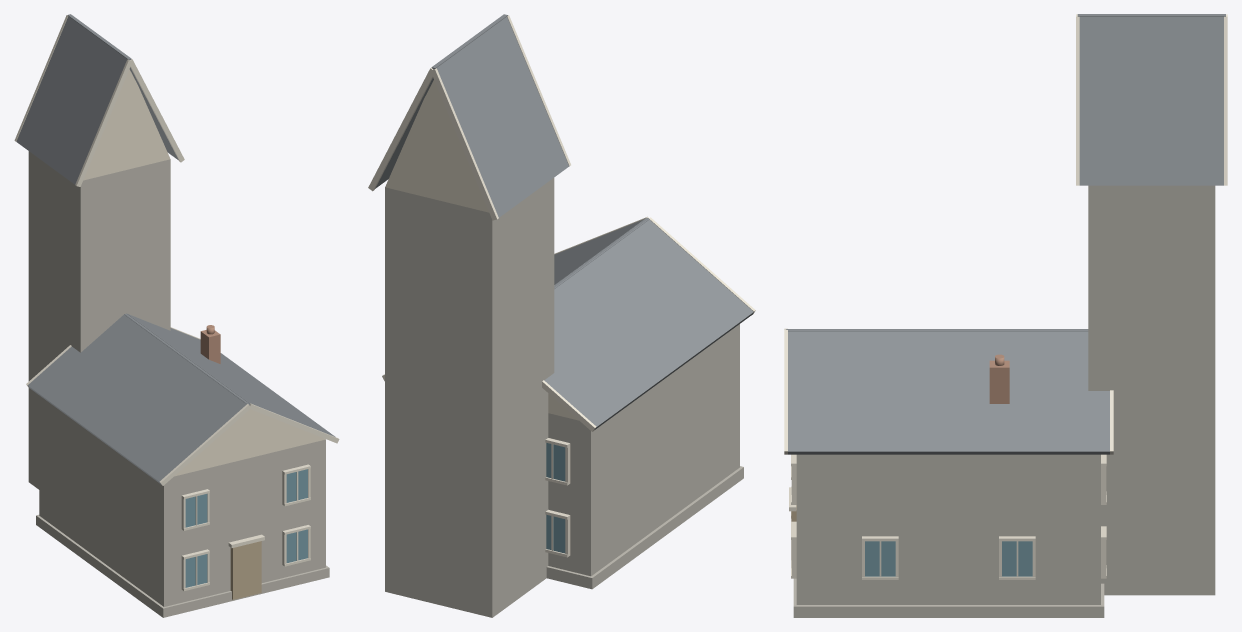
Rendered from tyne-church_lod0.glb.
3 views of the same model, side by side, from view 1: azimuth 30°, elevation 25°; view 2: azimuth 150°, elevation 25°; view 3: azimuth 270°, elevation 25° (orthographic). The views are drawn at different scales.
Visible parts, largest first — view 1: RF_Body, RF_ChurchTower, RF_Roof.001, RF_Roof.003, RF_Gable.002, RF_Gable, RF_Roof.002, RF_Foundation, RF_Door.001, RF_Vergeband.005, RF_Vergeband.001, RF_Vergeband.007 (+7 smaller); view 2: RF_ChurchTower, RF_Body, RF_Roof.001, RF_Roof.003, RF_Gable.003, RF_Foundation, RF_Roof.002, RF_Vergeband.006, RF_Vergeband, RF_Window.005, RF_Window.006, RF_Roof; view 3: RF_ChurchTower, RF_Body, RF_Roof.002, RF_Roof, RF_Foundation, RF_Window.009, RF_Window, RF_Ridge.001, RF_Chimney, RF_Vergeband.007, RF_Vergeband.
Part boxes in pixels (<box>): RF_Body: <box>39,395,325,606</box>; RF_ChurchTower: <box>28,151,170,489</box>; RF_Roof.001: <box>27,314,247,484</box>; RF_Roof.003: <box>16,16,127,184</box>; RF_Gable.002: <box>83,69,170,180</box>; RF_Gable: <box>174,409,325,476</box>; RF_Roof.002: <box>127,314,335,436</box>; RF_Foundation: <box>36,514,329,617</box>; RF_Door.001: <box>230,541,261,599</box>; RF_Vergeband.005: <box>75,59,131,186</box>; RF_Vergeband.001: <box>159,404,249,485</box>; RF_Vergeband.007: <box>129,59,184,162</box>; RF_ChurchTower: <box>385,178,554,617</box>; RF_Body: <box>548,324,739,576</box>; RF_Roof.001: <box>544,219,753,429</box>; RF_Roof.003: <box>436,17,568,217</box>; RF_Gable.003: <box>385,80,488,212</box>; RF_Foundation: <box>546,466,743,589</box>; RF_Roof.002: <box>554,218,646,285</box>; RF_Vergeband.006: <box>430,68,498,220</box>; RF_Vergeband: <box>368,67,433,191</box>; RF_Window.005: <box>546,514,565,553</box>; RF_Window.006: <box>546,443,565,481</box>; RF_Roof: <box>375,77,433,188</box>; RF_ChurchTower: <box>1088,185,1215,595</box>; RF_Body: <box>796,454,1100,604</box>; RF_Roof.002: <box>788,330,1109,454</box>; RF_Roof: <box>1079,16,1223,185</box>; RF_Foundation: <box>793,578,1104,617</box>; RF_Window.009: <box>865,541,895,576</box>; RF_Window: <box>1002,541,1032,576</box>; RF_Ridge.001: <box>786,329,1088,331</box>; RF_Chimney: <box>989,360,1009,403</box>; RF_Vergeband.007: <box>1076,16,1079,185</box>; RF_Vergeband: <box>1224,16,1227,185</box>.
Bounding box in the file's own units: 9.93 × 24.08 × 17.48.
